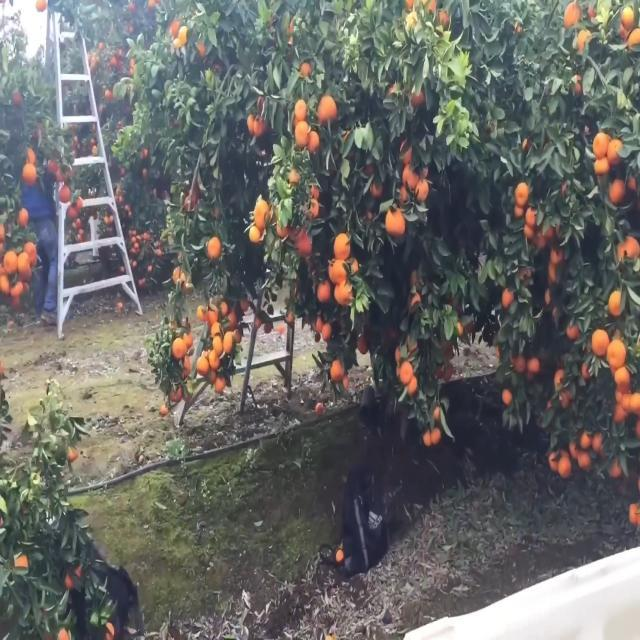Jeruk Sudah Matang: (315, 89, 344, 129), (381, 204, 409, 242), (332, 278, 359, 310), (591, 322, 610, 362), (606, 332, 626, 370), (330, 227, 352, 260), (604, 132, 624, 167), (294, 118, 314, 152), (327, 255, 350, 284), (612, 363, 632, 391), (252, 197, 272, 225), (315, 280, 335, 308), (514, 174, 530, 208), (592, 132, 610, 160), (398, 360, 416, 387), (2, 249, 20, 276), (292, 96, 310, 122), (171, 337, 189, 362), (328, 358, 345, 384), (21, 162, 38, 188), (206, 234, 221, 259)
